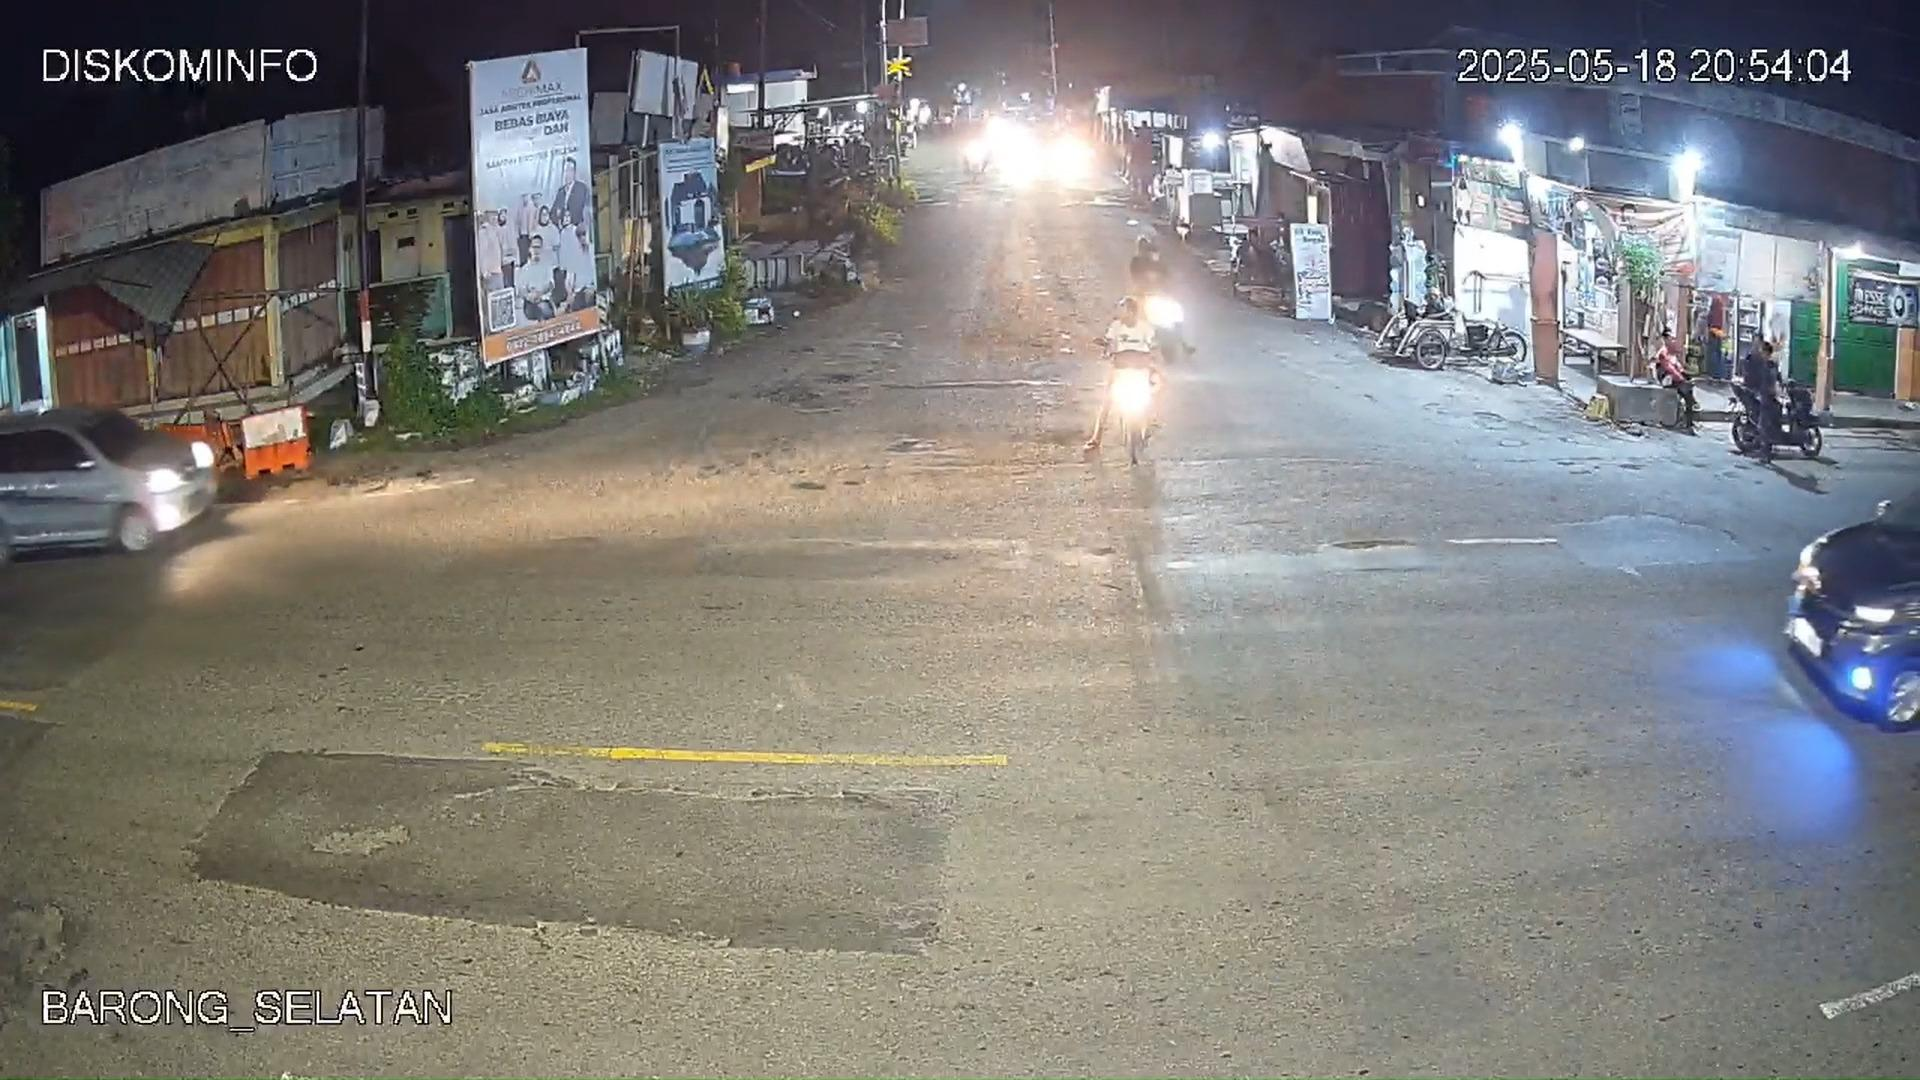Motor: (1093, 303, 1179, 465)
mobil: (1783, 495, 1920, 735), (1, 406, 212, 562)
